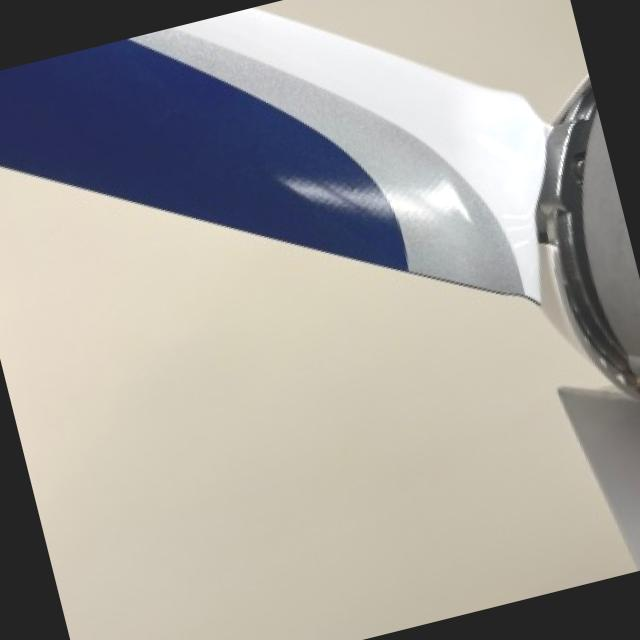healthy: (0, 166, 635, 640), (263, 0, 587, 118)
